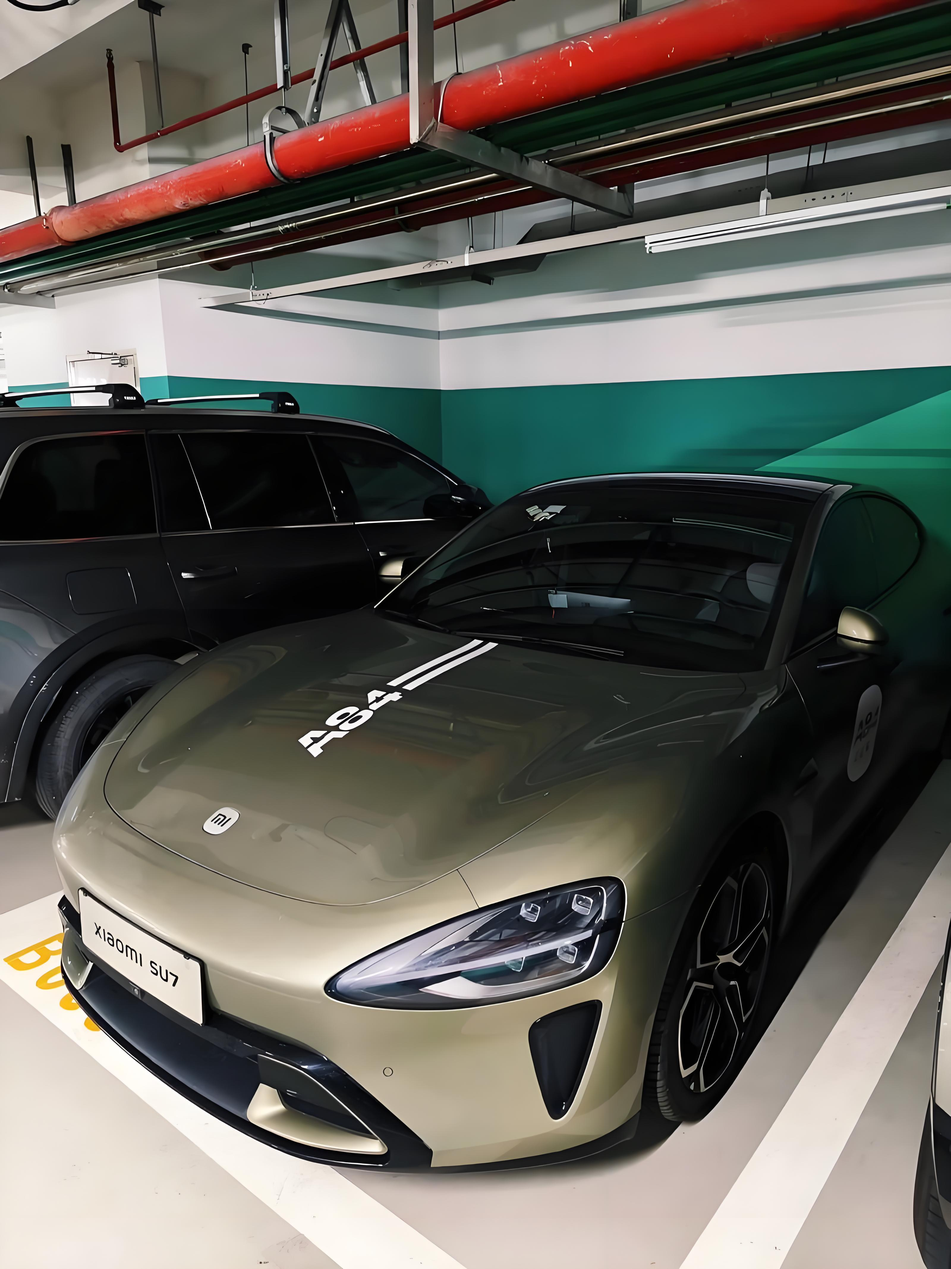XIAOMI: (203, 807, 240, 834)
